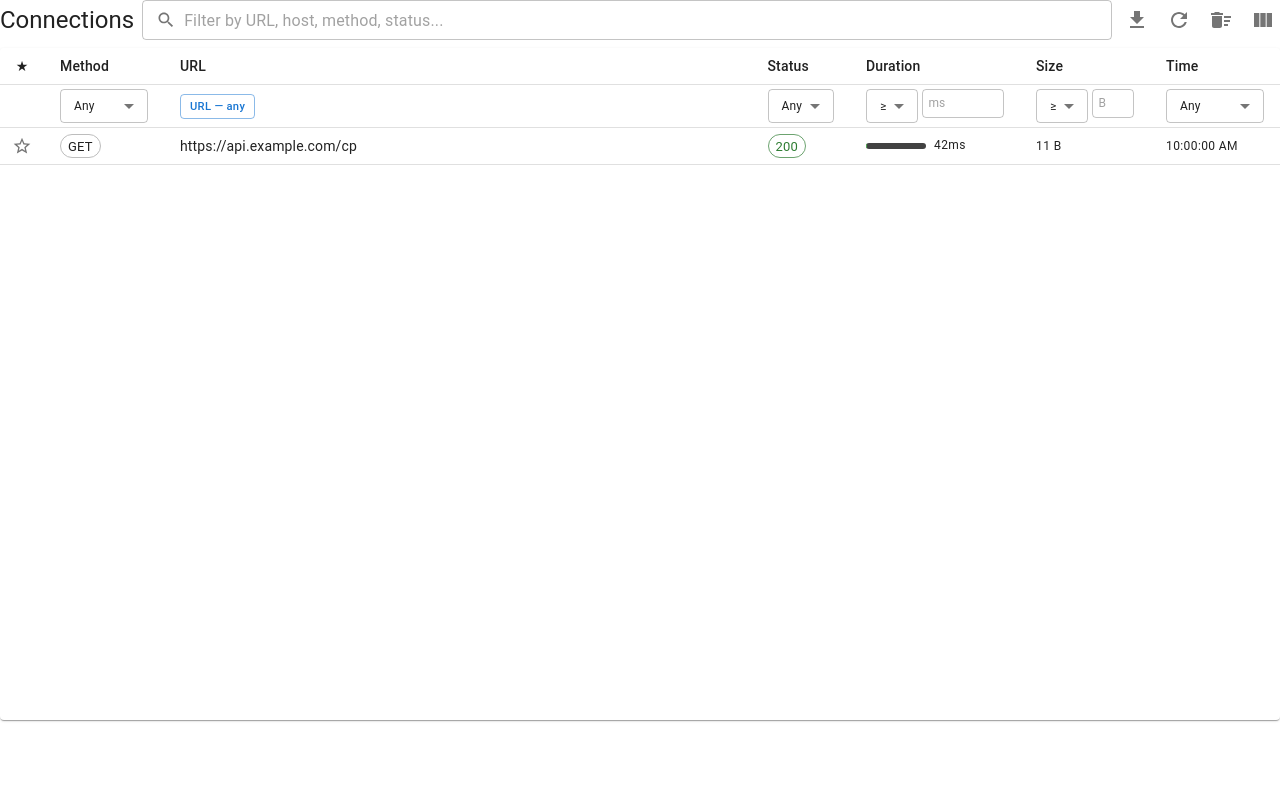
Test: ConnectionsPage — codegen languages › copies the generated code to clipboard via the copy button
Click the text "https://api.example.com/cp". click: (458, 147)
box: left=164, top=128, right=752, bottom=165
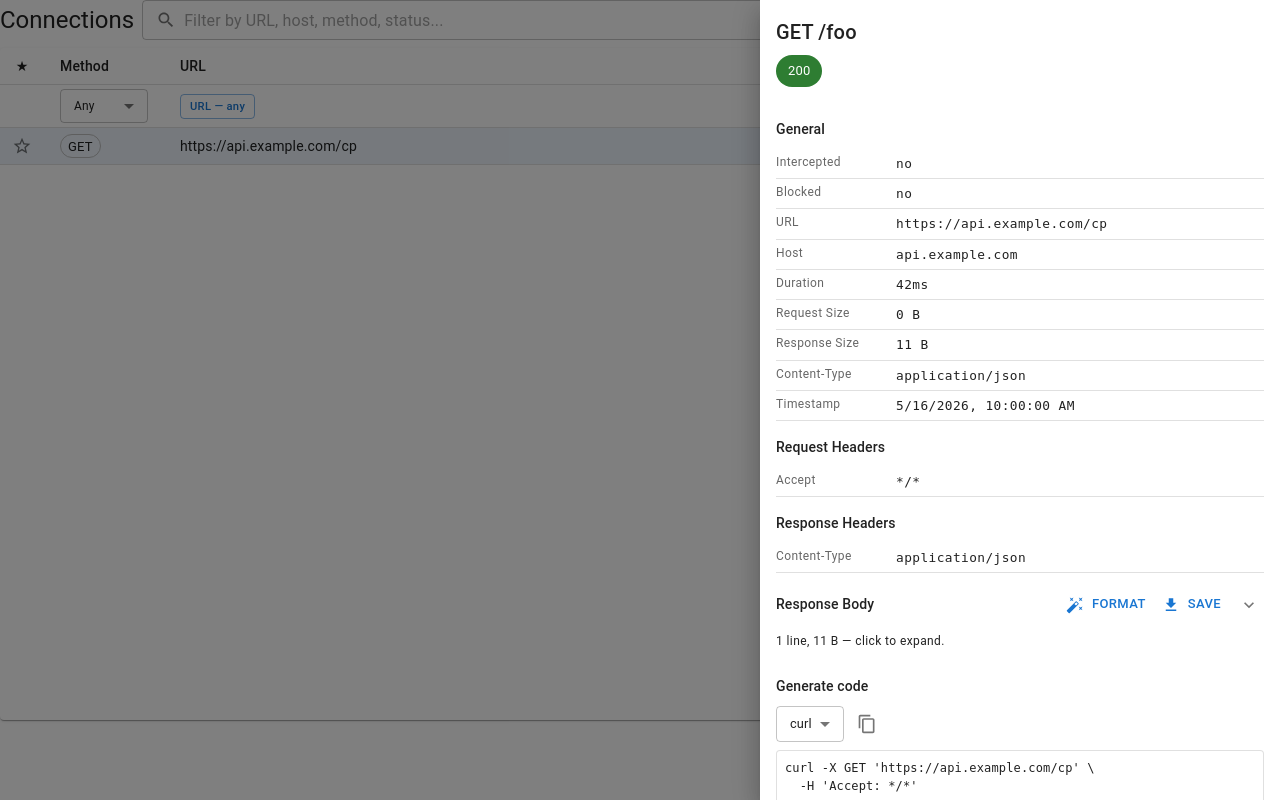
Click the button with test id "codegen-copy". click: (867, 724)
box: left=852, top=709, right=882, bottom=739
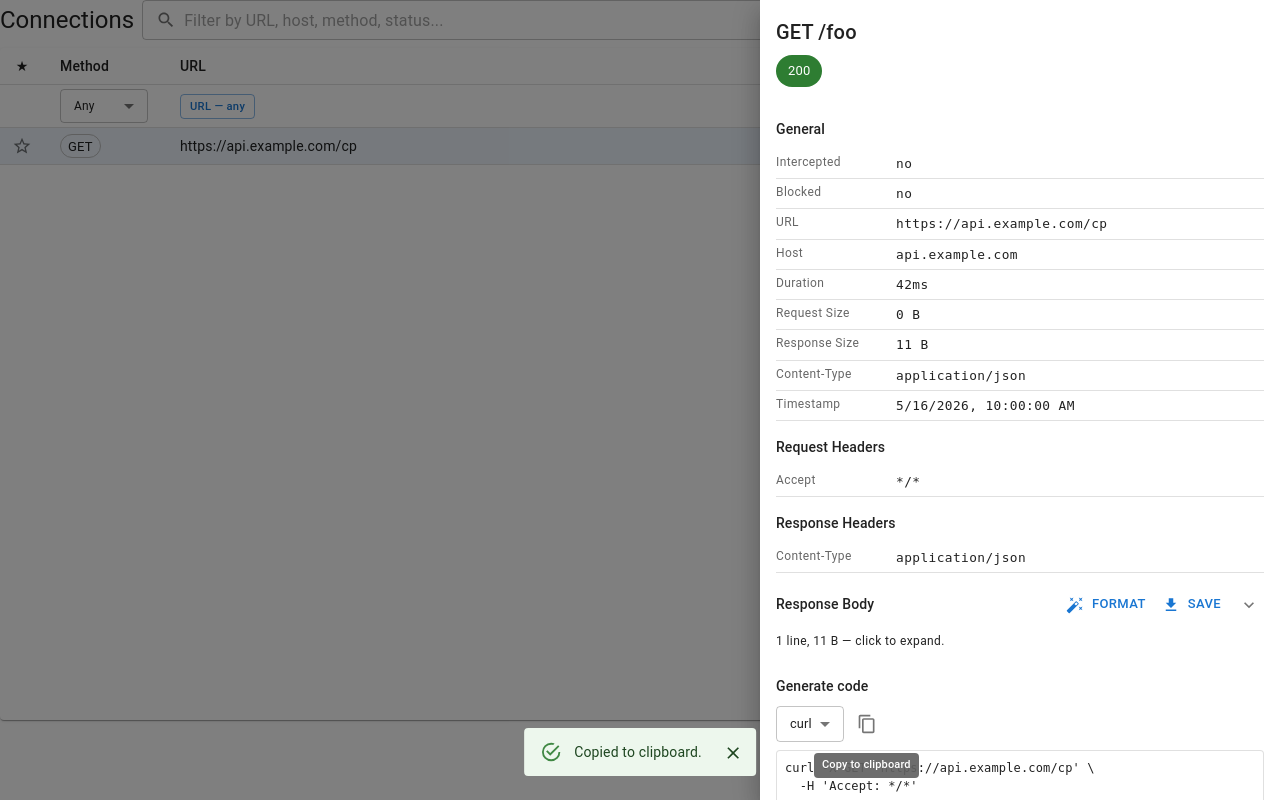
Expected: the text "Copied to clipboard." is shown, left=574, top=744, right=702, bottom=760
